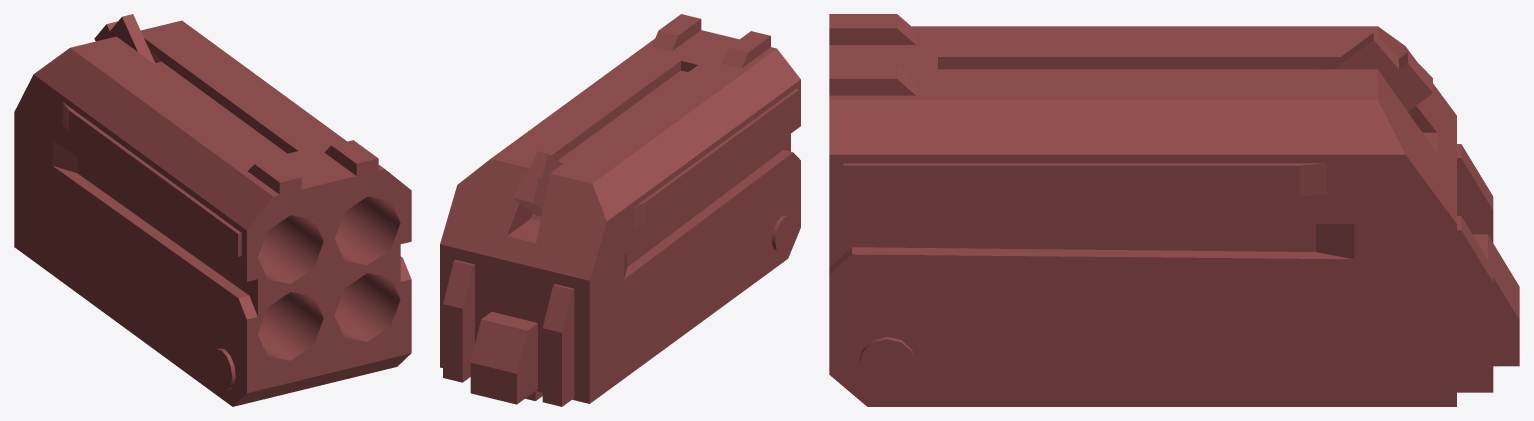
The model's file is WM0_Cannon_x4_LVL1.FBX.
3 views of the same model, side by side, from view 1: azimuth 30°, elevation 25°; view 2: azimuth 150°, elevation 25°; view 3: azimuth 270°, elevation 25° (orthographic). The views are drawn at different scales.
Visible parts, largest first — view 1: WM0_Cannon_x4_LVL1; view 2: WM0_Cannon_x4_LVL1; view 3: WM0_Cannon_x4_LVL1.
Boxes of the visible parts, <box> form: WM0_Cannon_x4_LVL1: <box>14,14,411,406</box>; WM0_Cannon_x4_LVL1: <box>440,14,800,406</box>; WM0_Cannon_x4_LVL1: <box>829,14,1519,406</box>.
Bounding box in the file's own units: 11.75 × 16.05 × 30.25.
